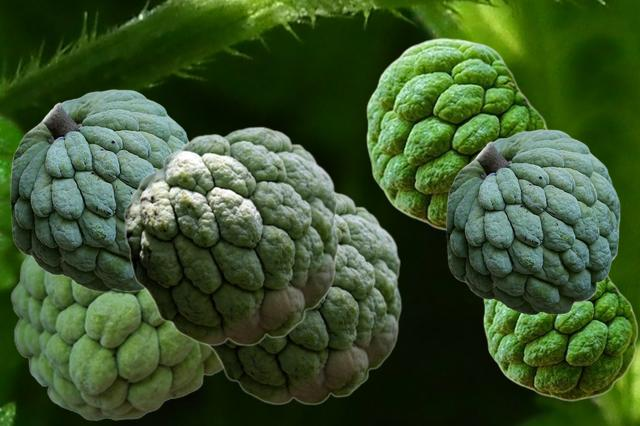atis: (123, 126, 338, 345), (207, 190, 401, 404), (10, 89, 188, 291), (366, 37, 549, 232), (10, 256, 222, 419), (446, 129, 619, 314), (483, 276, 637, 400)
